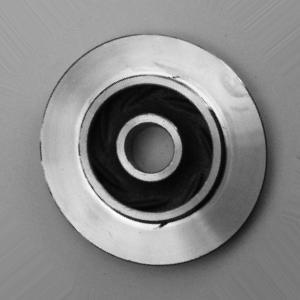crack: (142, 217, 186, 240), (164, 69, 188, 86)
unpolished_casting: (38, 33, 270, 271)
